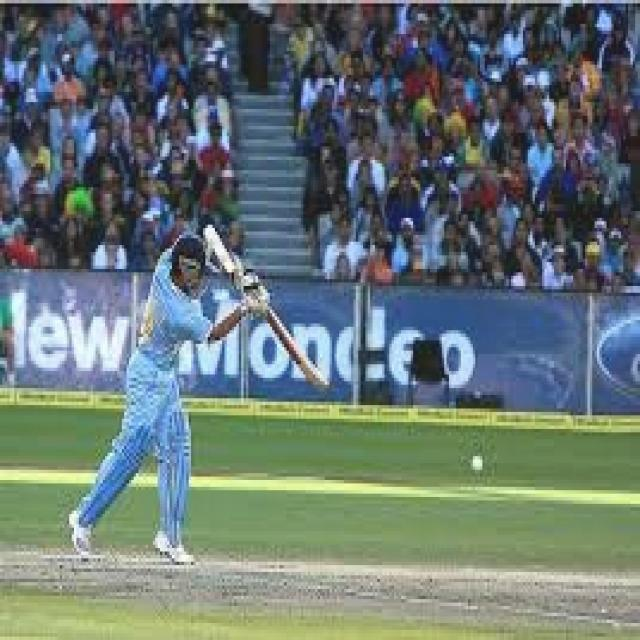toe: (306, 353, 336, 406)
